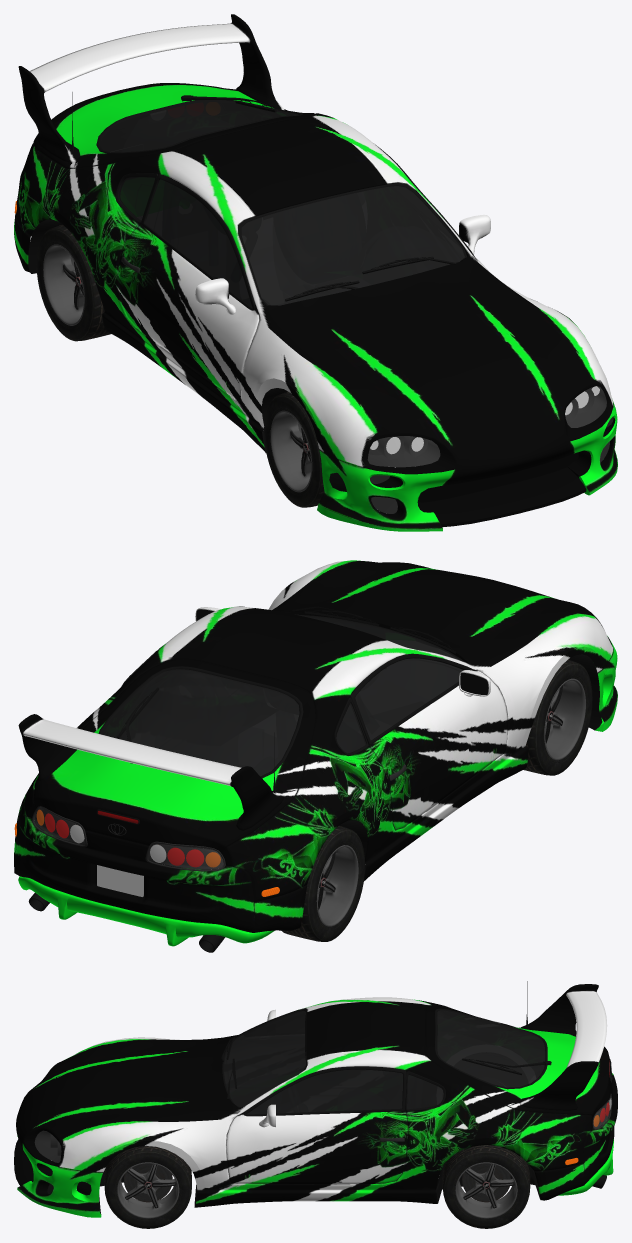
File: jza80.glb
3 renders of one model, top to bottom at view 1: azimuth 30°, elevation 25°; view 2: azimuth 150°, elevation 25°; view 3: azimuth 270°, elevation 25°, orthographic. The views are drawn at different scales.
Visible parts, largest first — view 1: CarPaint, Body, wheel_rr, wheel_fr, Props; view 2: CarPaint, Body, wheel_rr, wheel_fr, Props, LightsMesh; view 3: CarPaint, Body, wheel_rl, wheel_fl, Props.
Part boxes in pixels (bbox=[...]): CarPaint: bbox=[14, 14, 617, 531]; Body: bbox=[14, 100, 613, 513]; wheel_rr: bbox=[36, 225, 110, 341]; wheel_fr: bbox=[264, 392, 324, 507]; Props: bbox=[71, 92, 456, 301]; CarPaint: bbox=[14, 560, 617, 946]; Body: bbox=[14, 609, 602, 952]; wheel_rr: bbox=[281, 826, 365, 941]; wheel_fr: bbox=[523, 659, 592, 775]; Props: bbox=[96, 606, 456, 896]; LightsMesh: bbox=[36, 809, 220, 867]; CarPaint: bbox=[14, 984, 617, 1217]; Body: bbox=[34, 1008, 612, 1214]; wheel_rl: bbox=[442, 1145, 530, 1228]; wheel_fl: bbox=[104, 1146, 191, 1228]; Props: bbox=[221, 981, 611, 1099].
Size of the model in its own units: 1.89 by 1.34 by 4.52.
10 materials, 3 textured.
